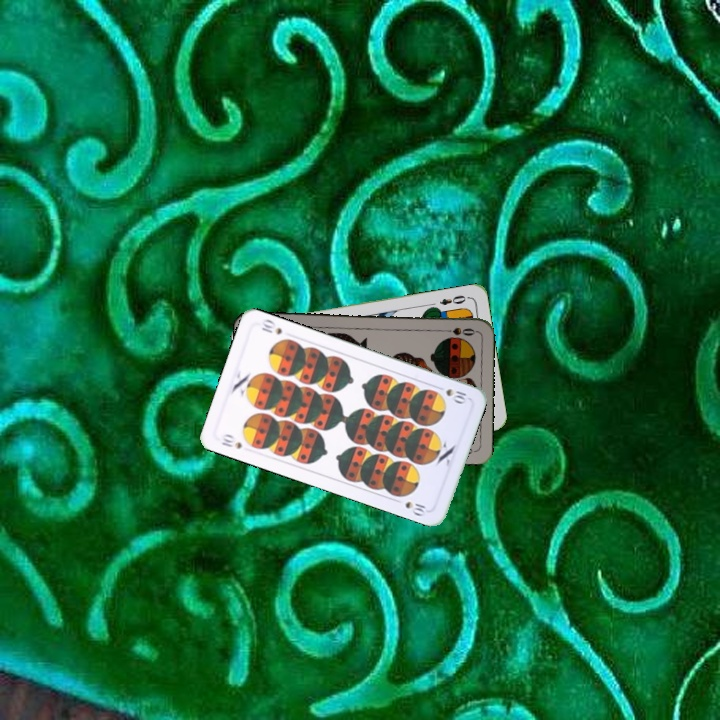EO: (436, 291, 472, 308)
S10: (432, 382, 469, 406), (217, 430, 244, 451)
SO: (437, 323, 478, 338)
